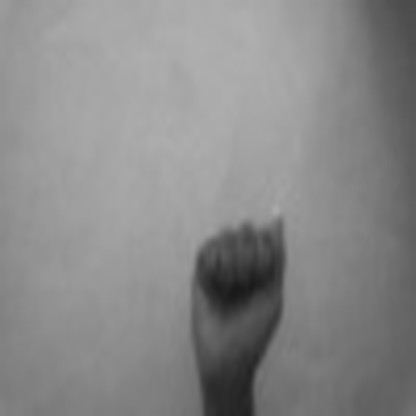a: (187, 191, 295, 371)
